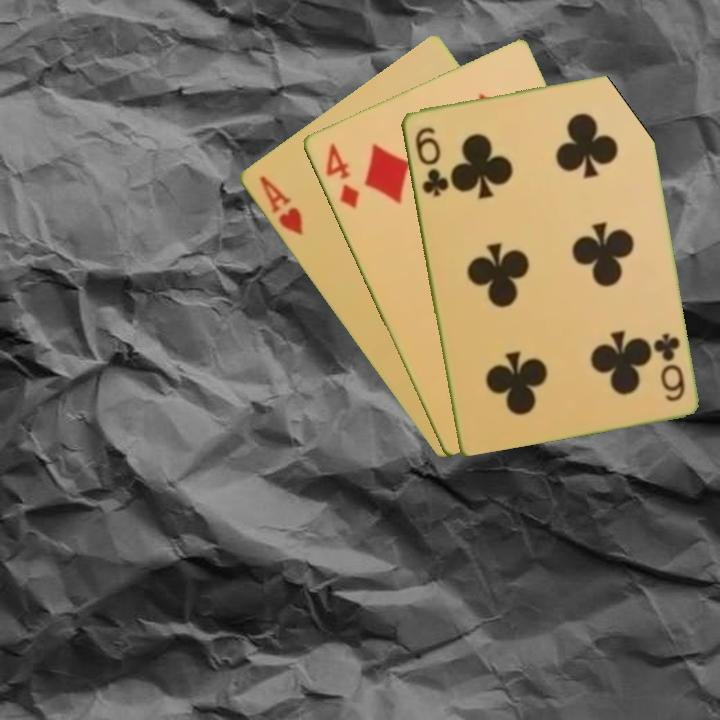4d: (321, 139, 362, 211)
6c: (411, 123, 449, 199), (650, 329, 688, 404)
Ah: (255, 172, 306, 238)
